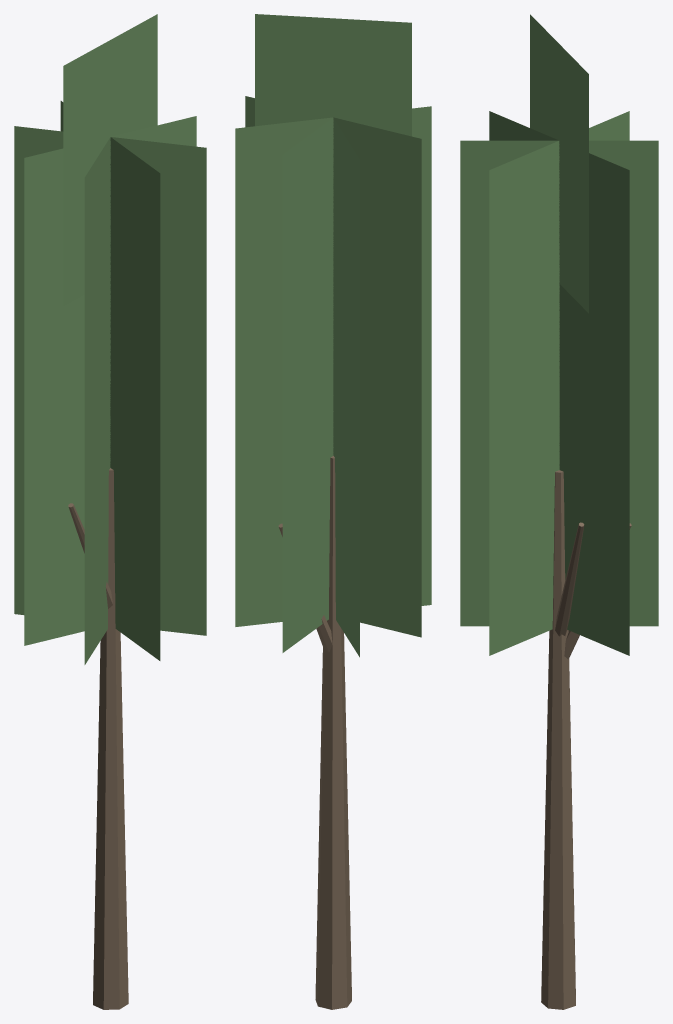
Rendered from tree-tall.glb.
The picture shows the model from 3 angles, left to right: view 1: azimuth 30°, elevation 25°; view 2: azimuth 150°, elevation 25°; view 3: azimuth 270°, elevation 25°; orthographic projection. The views are drawn at different scales.
Parts seen in each view (by area): view 1: TreeTall; view 2: TreeTall; view 3: TreeTall.
Boxes of the visible parts, x1,y1,x2,y2 form: TreeTall: [14, 14, 206, 1009]; TreeTall: [235, 14, 431, 1009]; TreeTall: [460, 14, 658, 1009].
Bounding box in the file's own units: 0.54 × 2.88 × 0.54.
